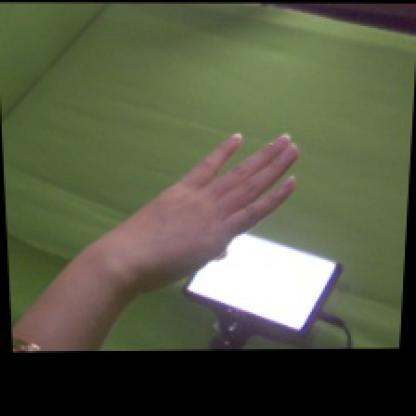Hand: (113, 134, 298, 284)
